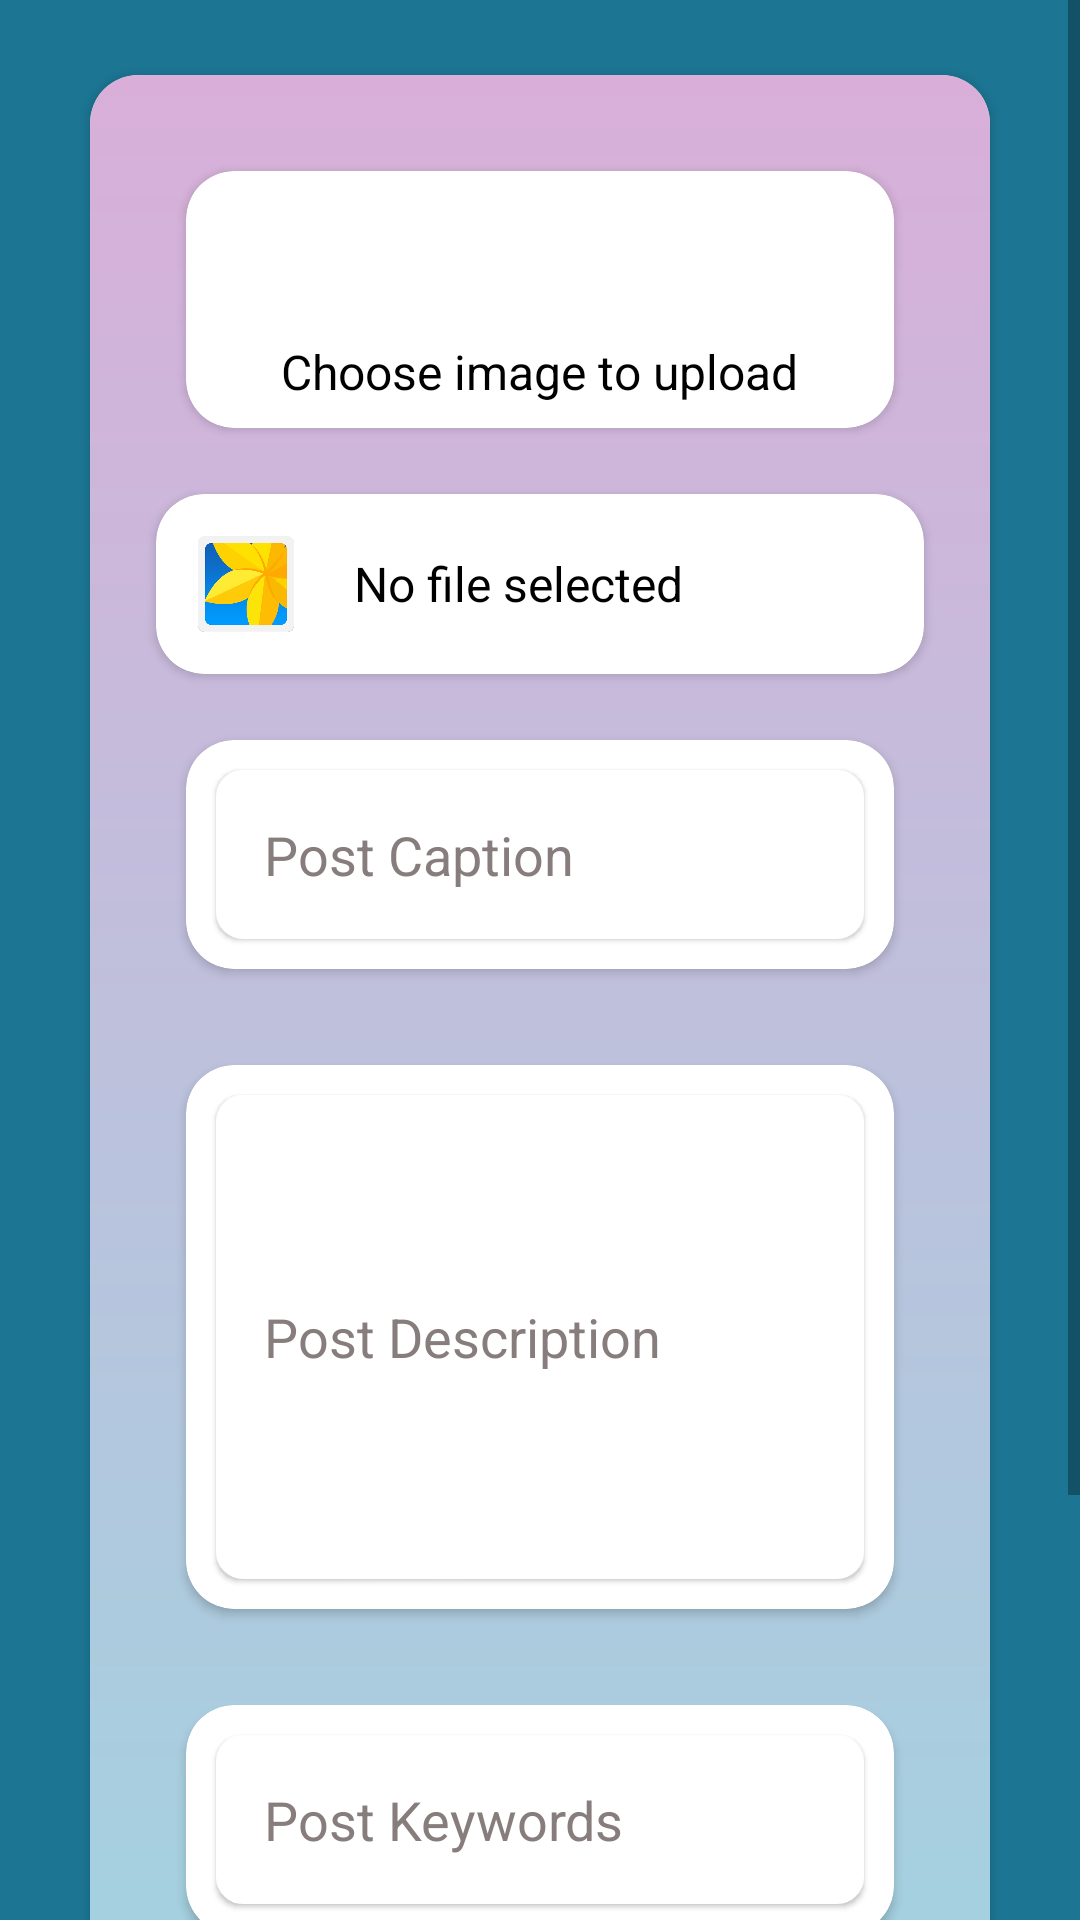

Where icons sit on this 1080px×1920px app screen, as (x1, y1, x2, y2):
imageplaceholder: (198, 543, 294, 632)
